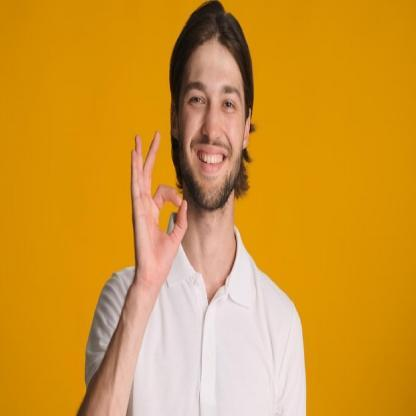ok: (130, 128, 190, 284)
